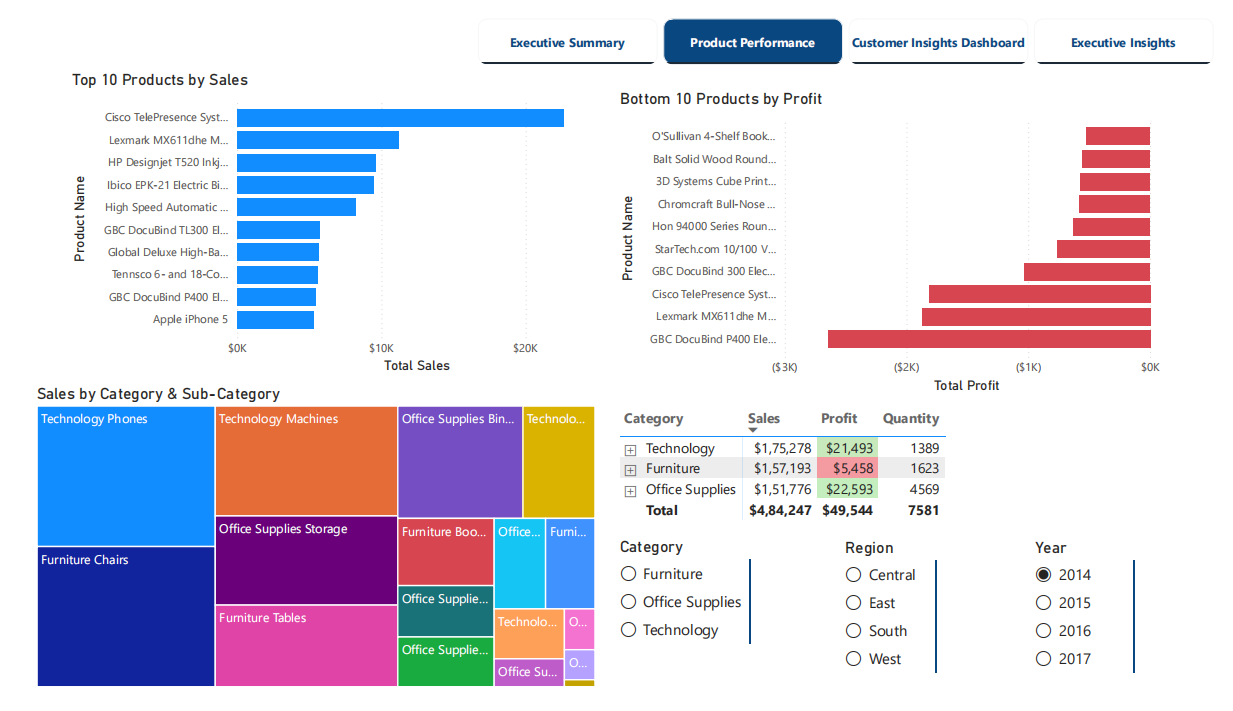

This screenshot's page, from the dashboard's own definition file:
{"tool":"powerbi","page":{"name":"Product Performance","canvas":[1280,720],"ordinal":1},"visuals":[{"type":"barChart","title":"Top 10 Products by Sales","fields":{"Category":["Products.Product Name"],"Y":["Orders.Total Sales"]},"box":[53.5,54.9,585.9,329.3],"z":0},{"type":"barChart","title":"Bottom 10 Products by Profit","fields":{"Y":["Orders.Total Profit"],"Category":["Products.Product Name"]},"box":[639.5,75.5,585.9,329.3],"z":1000},{"type":"treemap","title":"Sales by Category & Sub-Category","fields":{"Group":["Products.Category","Products.Sub-Category"],"Values":["Orders.Total Sales"]},"box":[16.5,389.7,605.1,329.3],"z":2000},{"type":"pivotTable","fields":{"Rows":["Products.Category","Products.Sub-Category","Products.Product Name"],"Values":["Orders.Total Sales","Orders.Total Profit","Sum(Orders.Quantity)"]},"box":[639.5,410.3,443.2,138.6],"z":3000},{"type":"listSlicer","fields":{"Values":["Regions.Region"]},"box":[879.6,555.3,107,164.7],"z":4000},{"type":"listSlicer","fields":{"Values":["Products.Category"]},"box":[639.5,554.4,149.6,164.7],"z":5000},{"type":"listSlicer","fields":{"Values":["Date Table.Year"]},"box":[1082.7,555.3,116.6,164.7],"z":6000},{"type":"pageNavigator","box":[492.3,0,787.7,49.4],"z":6001}]}

Visuals, with their boxes in screenshot pixels (x1, y1, x2, y2), scaled from the page's 1280x720 canvas onto the 1233x711 screenshot:
"Top 10 Products by Sales" barChart: locate(52, 54, 616, 379)
"Bottom 10 Products by Profit" barChart: locate(616, 75, 1180, 400)
"Sales by Category & Sub-Category" treemap: locate(16, 385, 599, 710)
pivotTable - Products.Category x Products.Sub-Category: locate(616, 405, 1043, 542)
listSlicer - Regions.Region: locate(847, 548, 950, 710)
listSlicer - Products.Category: locate(616, 547, 760, 710)
listSlicer - Date Table.Year: locate(1043, 548, 1155, 710)
pageNavigator: locate(474, 0, 1232, 49)
